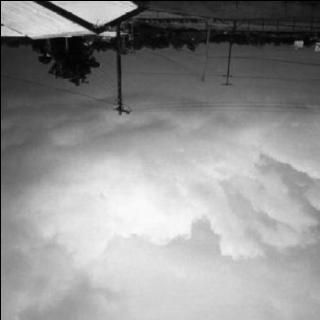Stratocumulus: (0, 91, 320, 320)
